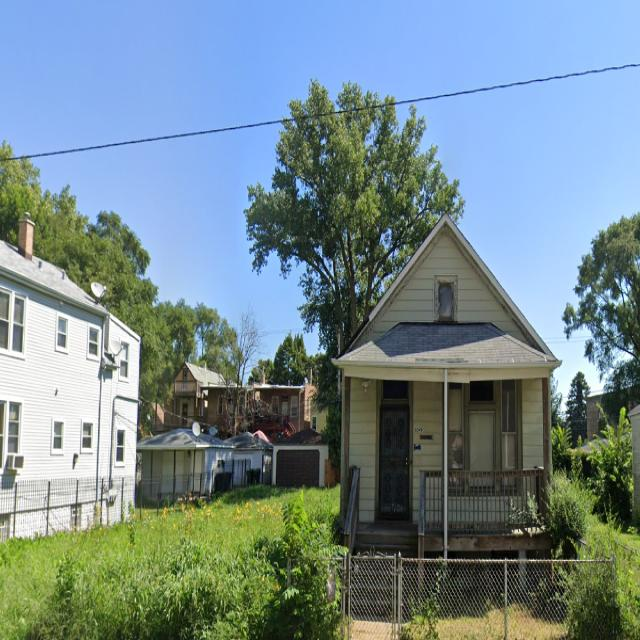House: (339, 211, 563, 617), (0, 212, 142, 541), (200, 364, 317, 434), (154, 361, 229, 433), (626, 403, 640, 520), (310, 393, 328, 434)
